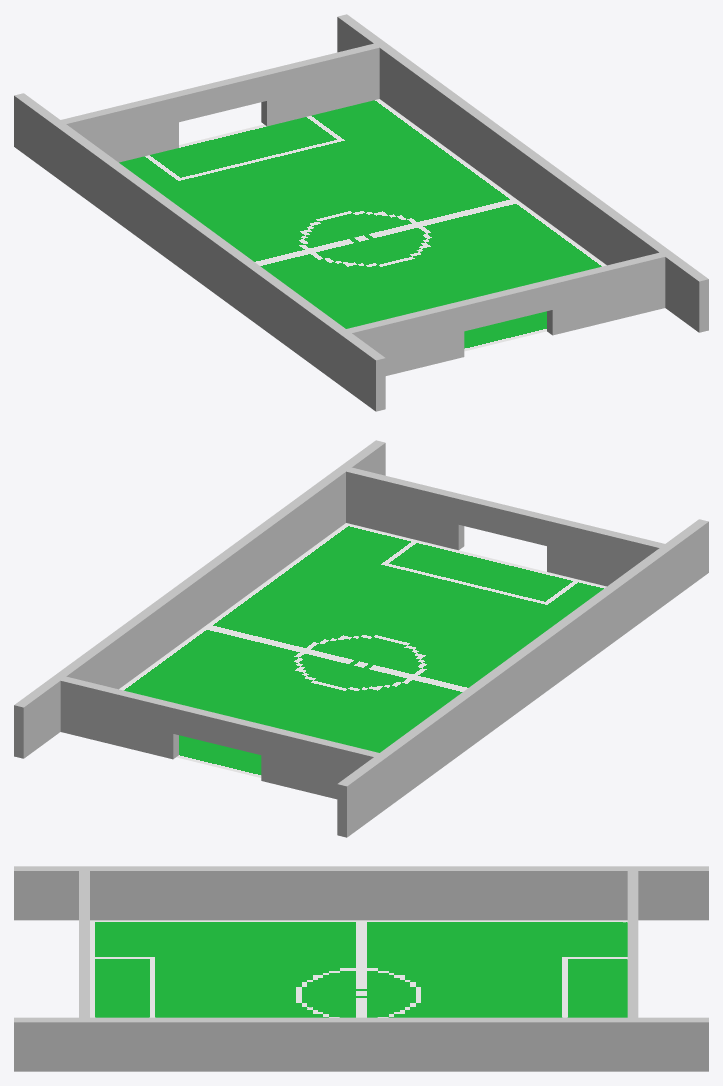
Rendered from football_field.gltf.
3 renders of one model, top to bottom at view 1: azimuth 30°, elevation 25°; view 2: azimuth 150°, elevation 25°; view 3: azimuth 270°, elevation 25°, orthographic. The views are drawn at different scales.
Visible parts, largest first — view 1: plane-col (×12); view 2: plane-col (×12); view 3: plane-col (×8).
Boxes of the visible parts, x1,y1,x2,y2 form: plane-col (×12): [14, 14, 708, 411]; plane-col (×12): [14, 440, 708, 837]; plane-col (×8): [14, 866, 708, 1071].
Bounding box in the file's own units: 4.25 × 0.625 × 8.
2 materials, 1 textured.
